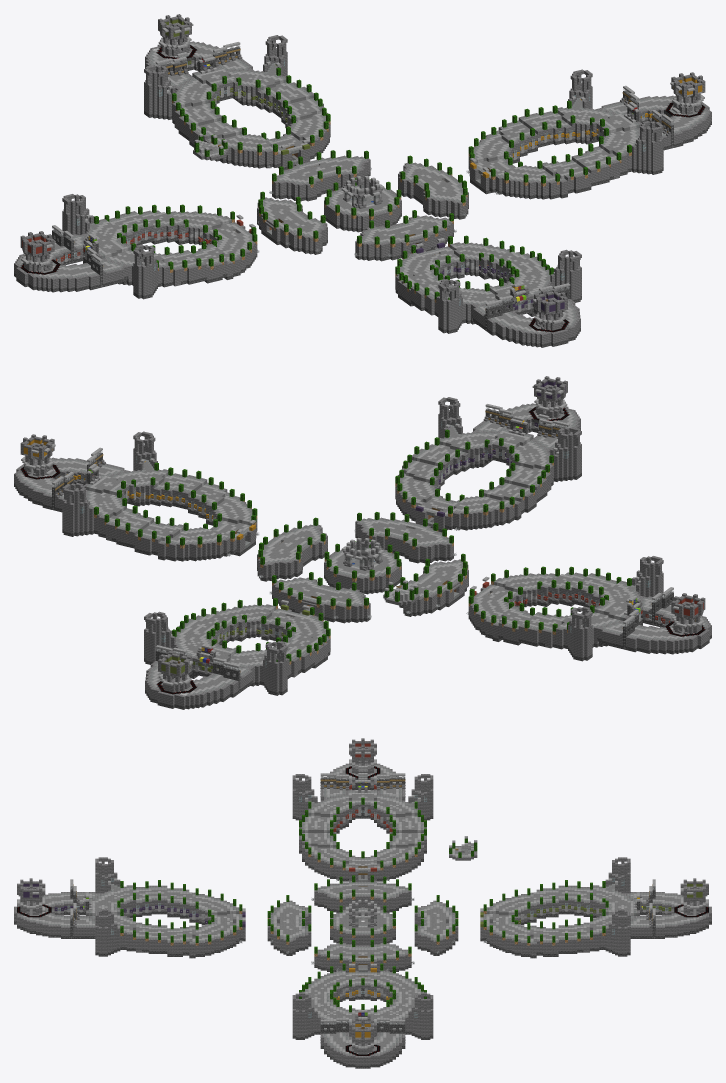
File: minecraft.obj
3 renders of one model, top to bottom at view 1: azimuth 30°, elevation 25°; view 2: azimuth 150°, elevation 25°; view 3: azimuth 270°, elevation 25°, orthographic. The views are drawn at different scales.
Size of the model in its own units: 223 by 18.5 by 223.
